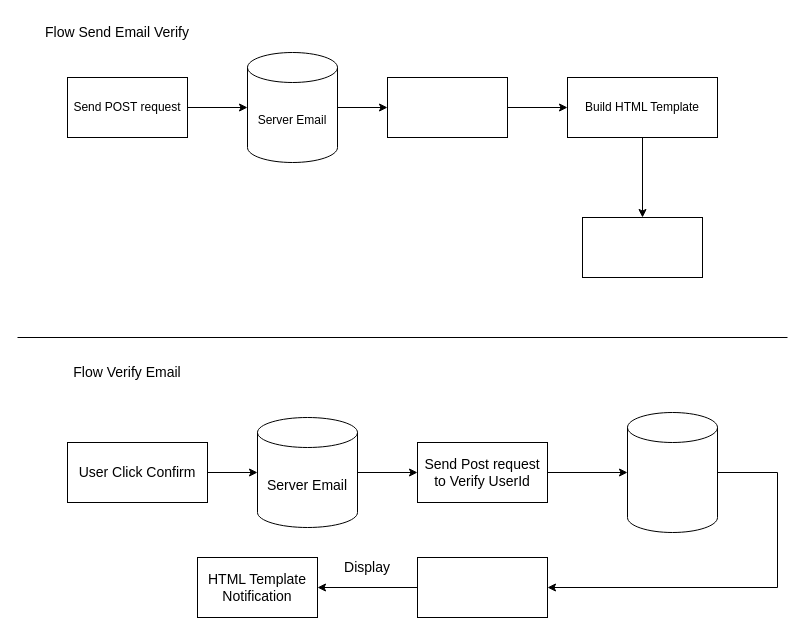
The diagram is 806 pixels wide and 635 high, and some of its shapes have lost their labels. Each missing label, with the centre of its shape:
"GenerateToken" belongs at point 447,107.
"Handle Respone" belongs at point 482,587.
"Send Email Verify" belongs at point 642,247.
"Server User" belongs at point 672,472.
